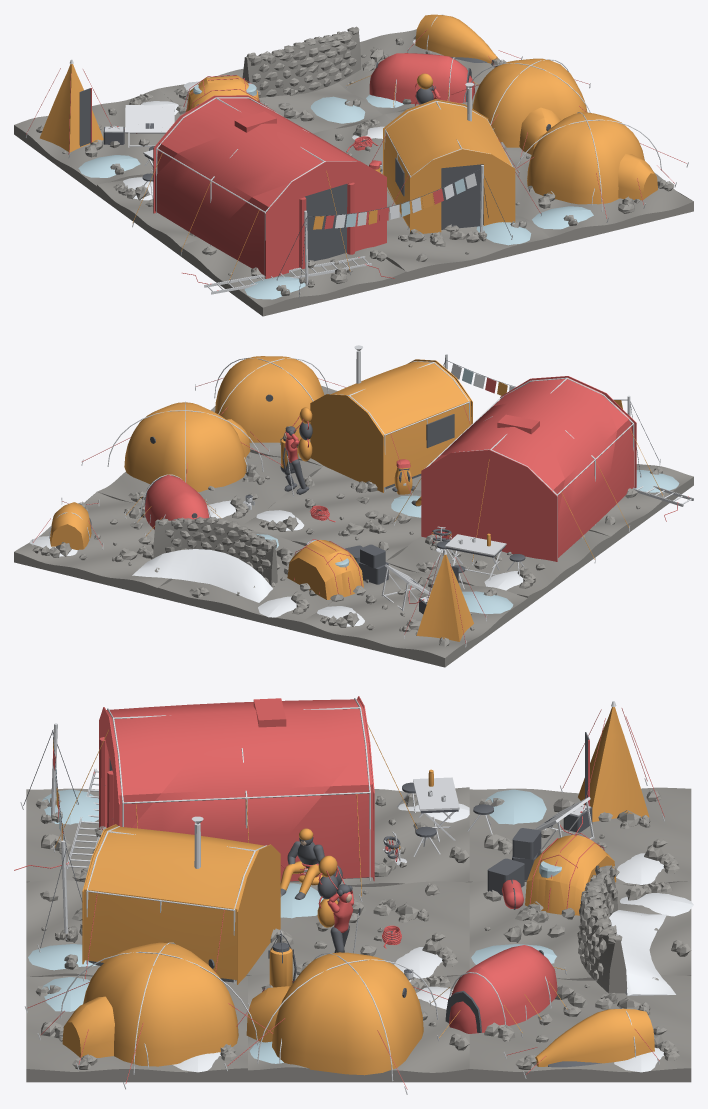
The model's file is mountaineering-and-summit-expedition-bas-d20187f5-starter-scene__18832.glb.
3 renders of one model, top to bottom at view 1: azimuth 30°, elevation 25°; view 2: azimuth 150°, elevation 25°; view 3: azimuth 270°, elevation 25°, orthographic. The views are drawn at different scales.
Parts seen in each view (by area): view 1: 009-mess-tent/0, 010-kitchen-tent/0, 012-base-camp-dome-tent/0, 013-base-camp-dome-tent/0, 002-moraine-ground-tile/0, 005-moraine-ground-tile/0, 017-stone-wind-wall/0, 008-moraine-ground-tile/0, 000-moraine-ground-tile/0, 014-high-altitude-bivouac-tent/0, 003-moraine-ground-tile/0, 006-moraine-ground-tile/0 (+20 smaller); view 2: 009-mess-tent/0, 010-kitchen-tent/0, 000-moraine-ground-tile/0, 004-moraine-ground-tile/0, 013-base-camp-dome-tent/0, 006-moraine-ground-tile/0, 012-base-camp-dome-tent/0, 001-moraine-ground-tile/0, 003-moraine-ground-tile/0, 007-moraine-ground-tile/0, 017-stone-wind-wall/0, 017-stone-wind-wall/1 (+18 smaller); view 3: 009-mess-tent/0, 010-kitchen-tent/0, 013-base-camp-dome-tent/0, 012-base-camp-dome-tent/0, 006-moraine-ground-tile/0, 004-moraine-ground-tile/0, 000-moraine-ground-tile/0, 003-moraine-ground-tile/0, 008-moraine-ground-tile/0, 001-moraine-ground-tile/0, 007-moraine-ground-tile/0, 014-high-altitude-bivouac-tent/0 (+34 smaller).
Part boxes in pixels (x1,y1,x2,y2): 009-mess-tent/0: (153,95,386,278); 010-kitchen-tent/0: (383,99,515,233); 012-base-camp-dome-tent/0: (527,112,657,204); 013-base-camp-dome-tent/0: (472,58,587,154); 002-moraine-ground-tile/0: (180,239,406,316); 005-moraine-ground-tile/0: (373,195,550,281); 017-stone-wind-wall/0: (242,26,361,97); 008-moraine-ground-tile/0: (513,163,693,246); 000-moraine-ground-tile/0: (14,89,182,194); 014-high-altitude-bivouac-tent/0: (369,53,474,104); 003-moraine-ground-tile/0: (158,68,382,133); 006-moraine-ground-tile/0: (338,29,506,114); 009-mess-tent/0: (421,376,636,561); 010-kitchen-tent/0: (310,359,472,492); 000-moraine-ground-tile/0: (301,564,527,667); 004-moraine-ground-tile/0: (241,466,421,560); 013-base-camp-dome-tent/0: (124,402,250,492); 006-moraine-ground-tile/0: (14,492,172,597); 012-base-camp-dome-tent/0: (215,356,324,442); 001-moraine-ground-tile/0: (385,530,610,606); 003-moraine-ground-tile/0: (157,530,332,632); 007-moraine-ground-tile/0: (97,452,322,525); 017-stone-wind-wall/0: (153,517,277,586); 017-stone-wind-wall/1: (132,549,272,602); 009-mess-tent/0: (99,696,374,881); 010-kitchen-tent/0: (82,824,280,984); 013-base-camp-dome-tent/0: (246,952,423,1075); 012-base-camp-dome-tent/0: (62,942,238,1066); 006-moraine-ground-tile/0: (469,975,691,1082); 004-moraine-ground-tile/0: (248,881,469,979); 000-moraine-ground-tile/0: (469,787,691,885); 003-moraine-ground-tile/0: (469,880,691,980); 008-moraine-ground-tile/0: (26,976,247,1082); 001-moraine-ground-tile/0: (280,787,469,886); 007-moraine-ground-tile/0: (248,973,469,1082); 014-high-altitude-bivouac-tent/0: (449,945,557,1033).
Bounding box in the file's own units: 13.83 × 3.17 × 12.27.
